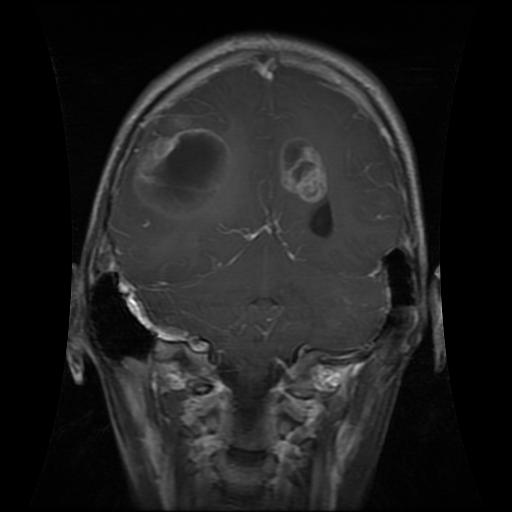Gliomia_tumour: (132, 111, 237, 222)
